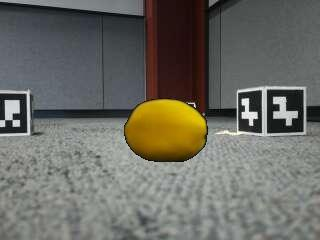lemon: (126, 100, 207, 162)
